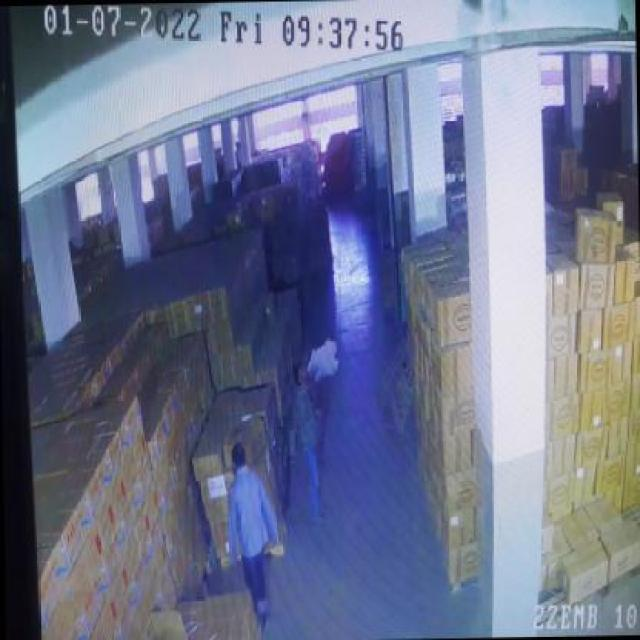fire: (306, 333, 339, 379)
